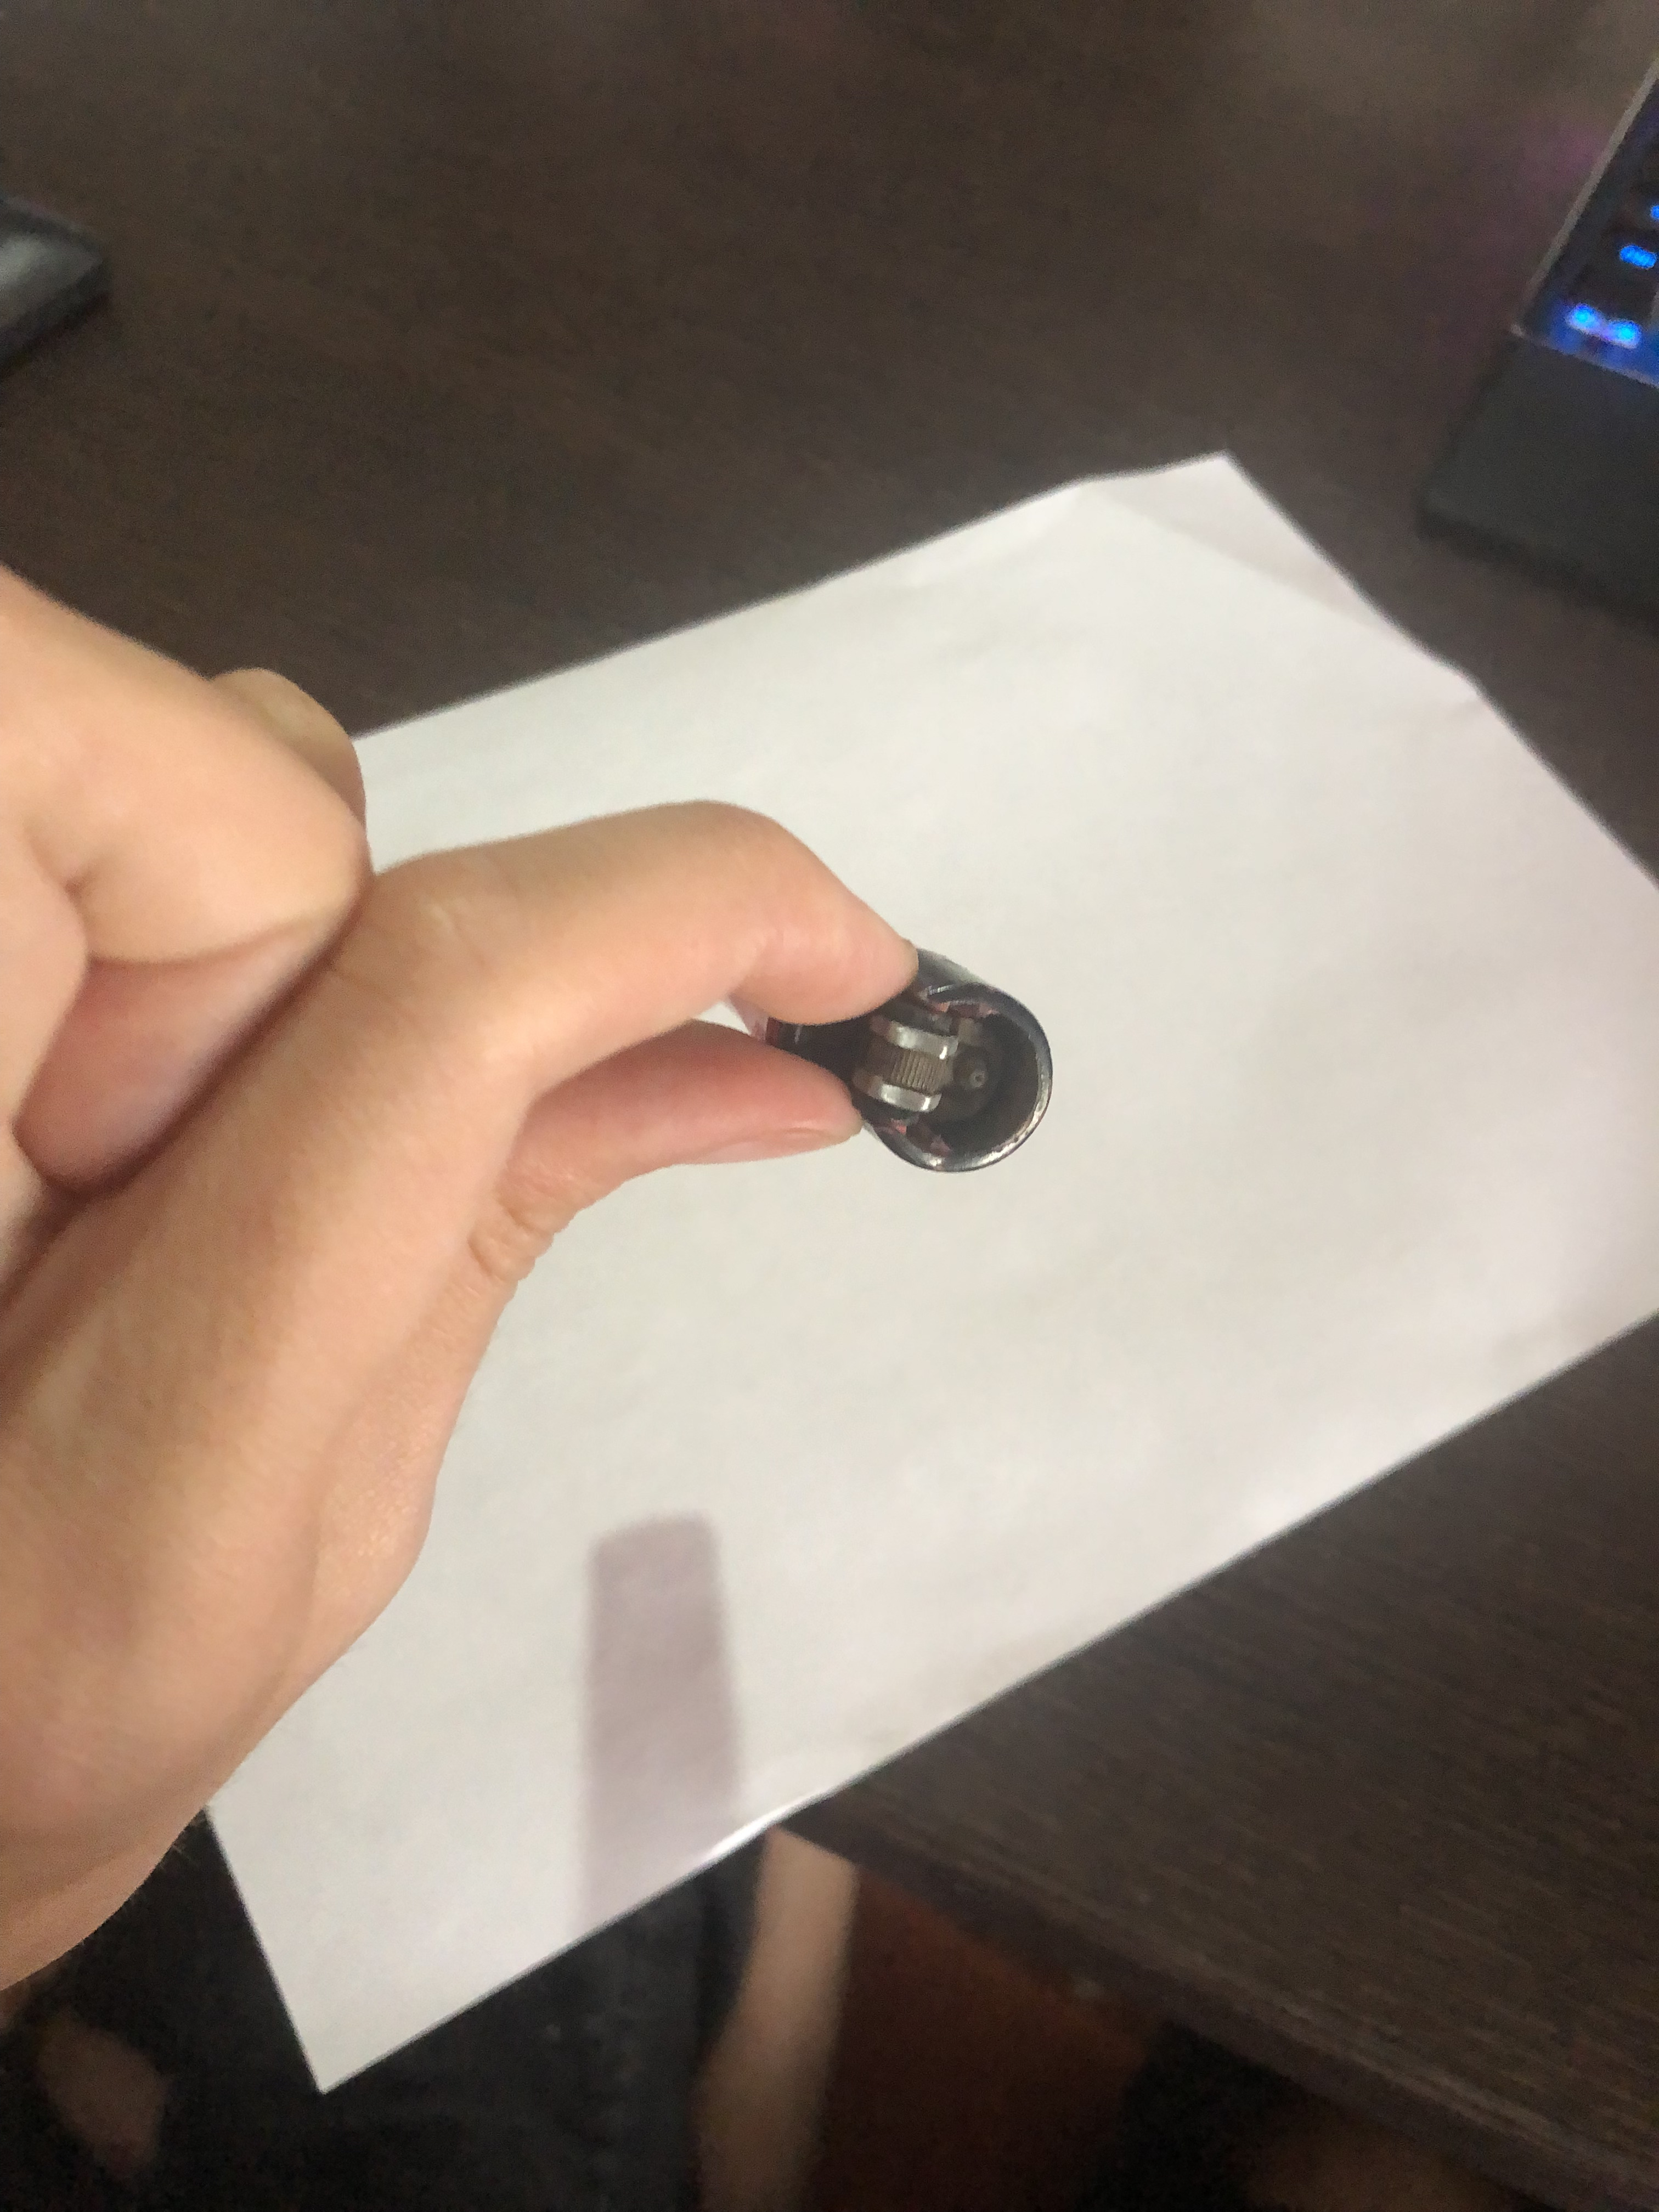Mechero: (842, 944, 1065, 1183)
